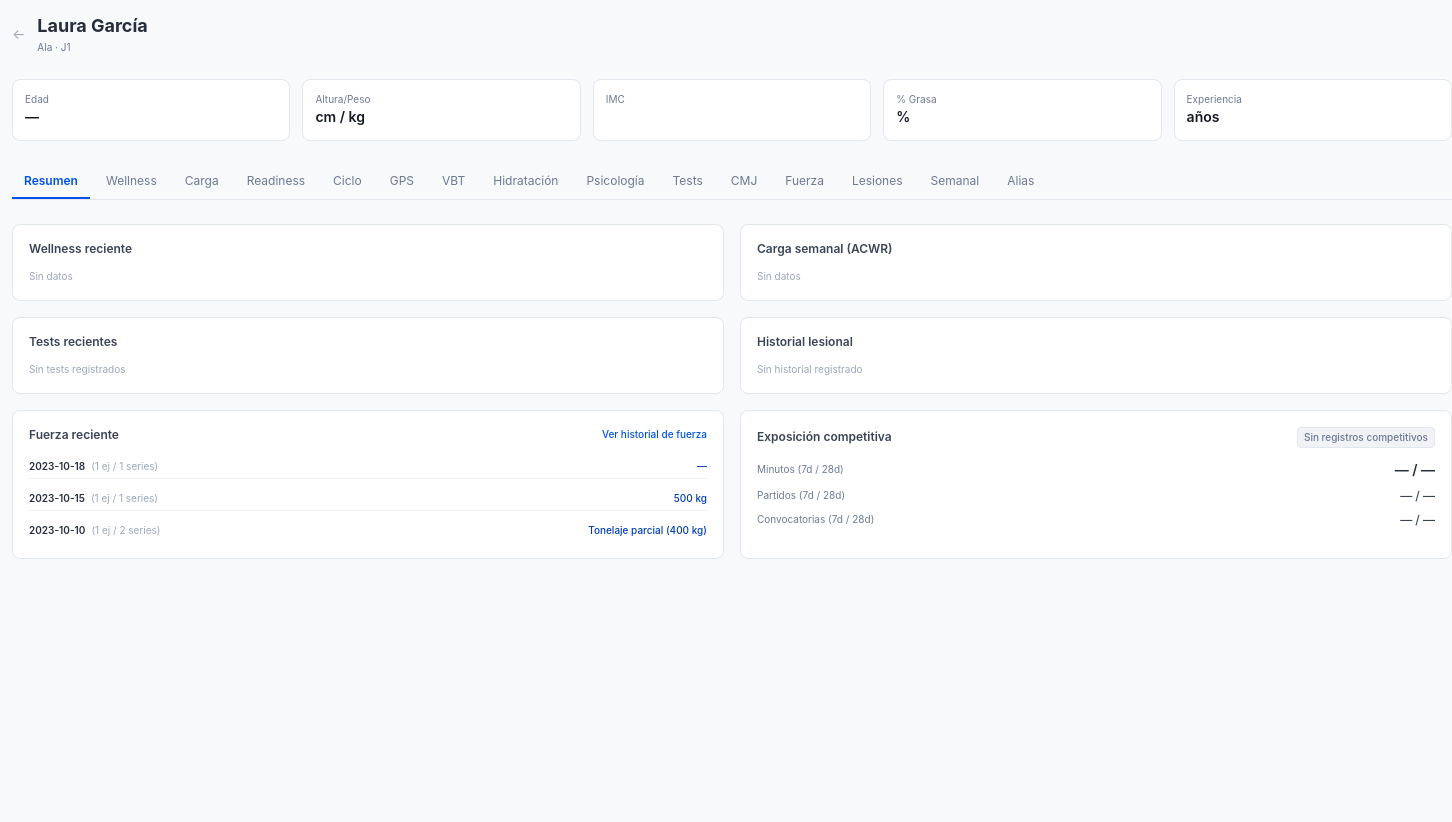
Test: PlayerProfilePage (Pestaña e Historial de Fuerza) › 29. Pestaña Ciclo/Contexto menstrual muestra estimación prudente y registros comunicados
Step 1. Click the button "Ciclo" → x=347, y=182, box [321,164,374,198]
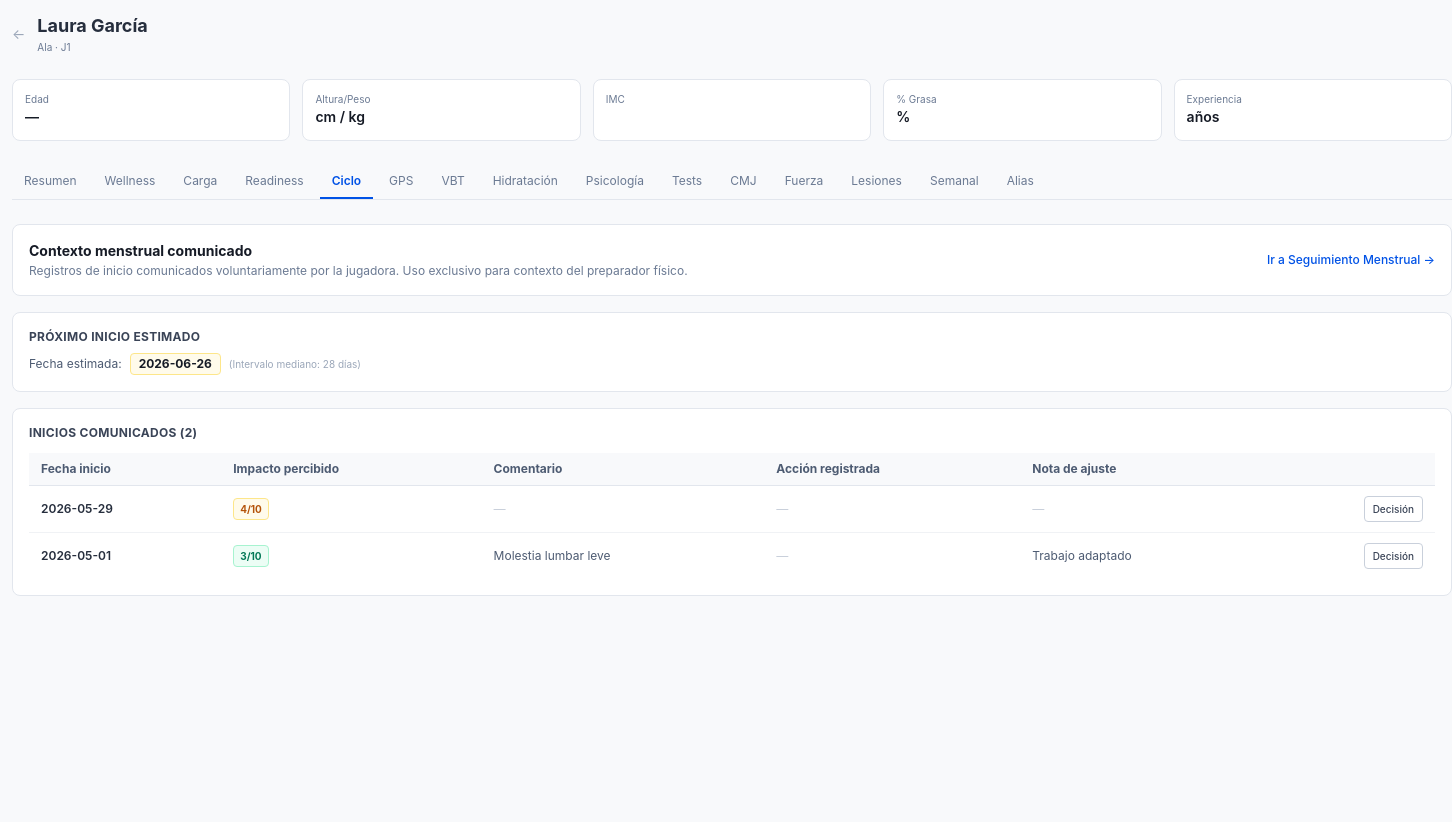
Now the heading "Contexto menstrual comunicado" is shown, box [29,242,252,258]
Now the heading "Próximo inicio estimado" is shown, box [29,328,200,344]
Now the text "2026-06-26" is shown, box [130,352,221,374]
